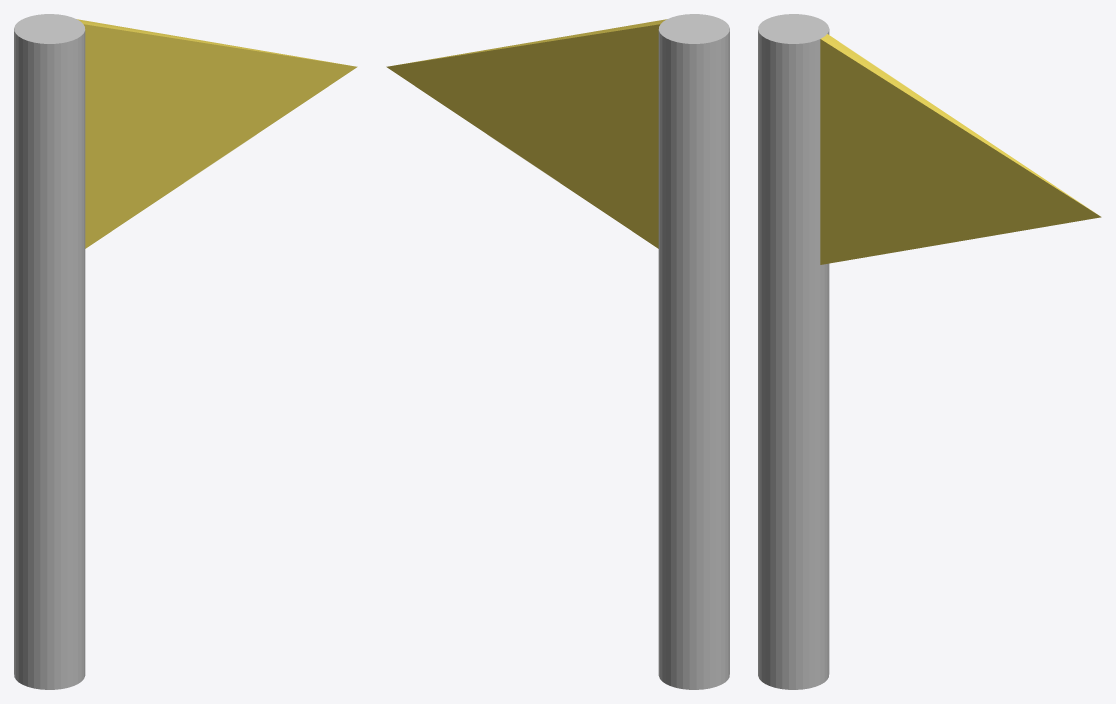
Rendered from Flag.fbx.
3 views of the same model, side by side, from view 1: azimuth 30°, elevation 25°; view 2: azimuth 150°, elevation 25°; view 3: azimuth 330°, elevation 25° (orthographic).
Visible parts, largest first — view 1: Bar, Flag; view 2: Bar, Flag; view 3: Bar, Flag.
Boxes of the visible parts, <box> form: Bar: <box>14,14,85,689</box>; Flag: <box>77,19,357,248</box>; Bar: <box>658,14,729,689</box>; Flag: <box>386,19,666,248</box>; Bar: <box>758,14,829,689</box>; Flag: <box>820,34,1101,264</box>.
Bounding box in the file's own units: 1099 × 2000 × 200.
